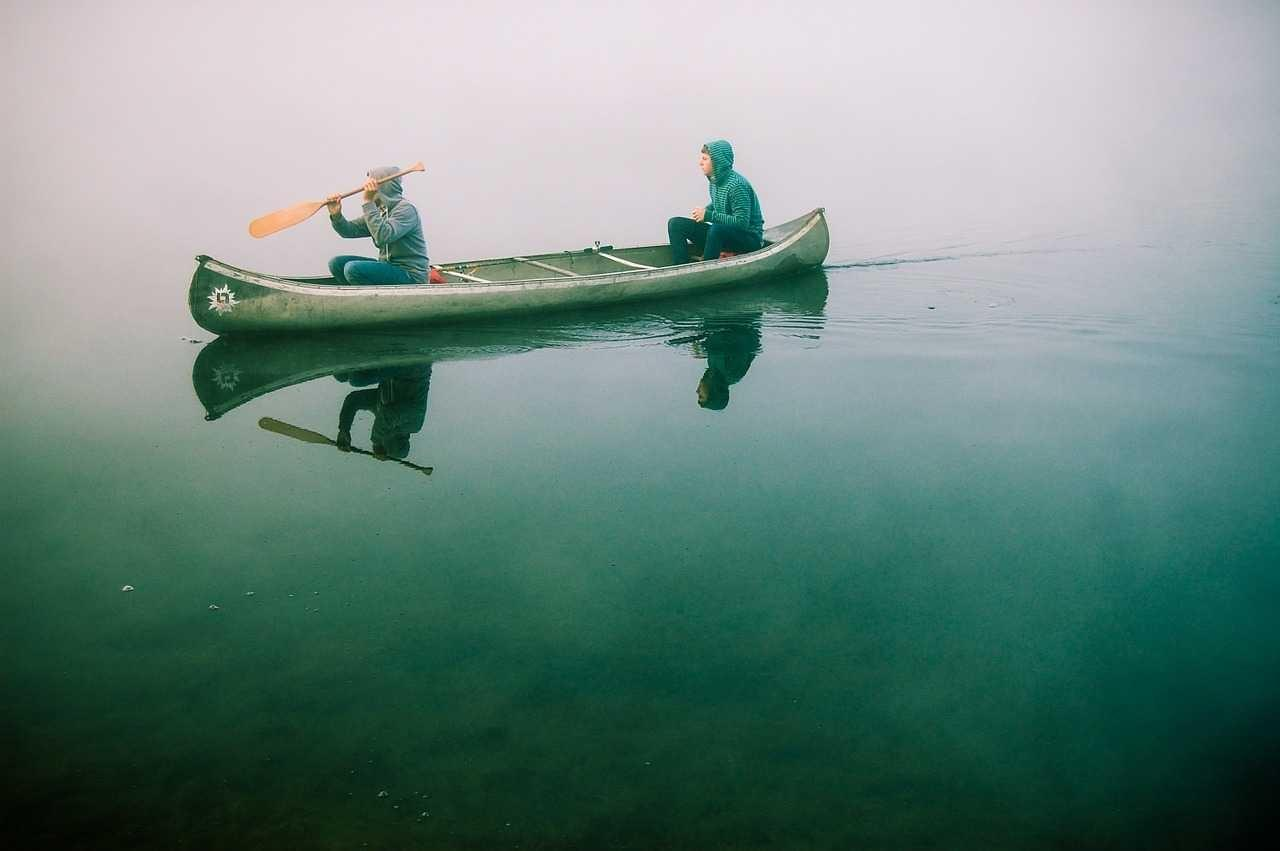kayak: (192, 208, 829, 346)
